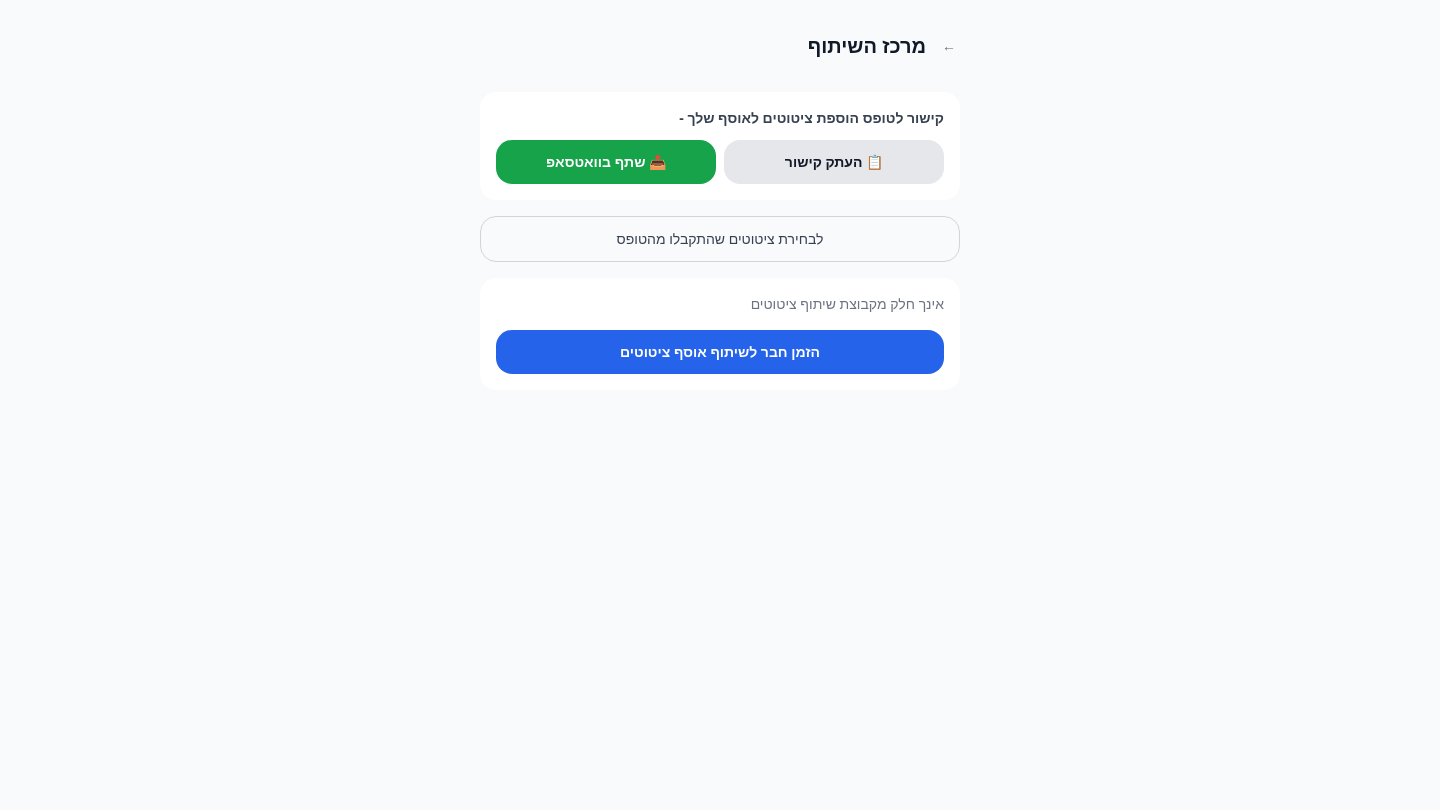
Test: SharingCenterScreen — guest inbox › shows pending submissions in the inbox
Click the button "לבחירת ציטוטים שהתקבלו מהטופס" at (720, 239), box [480,216,960,262]
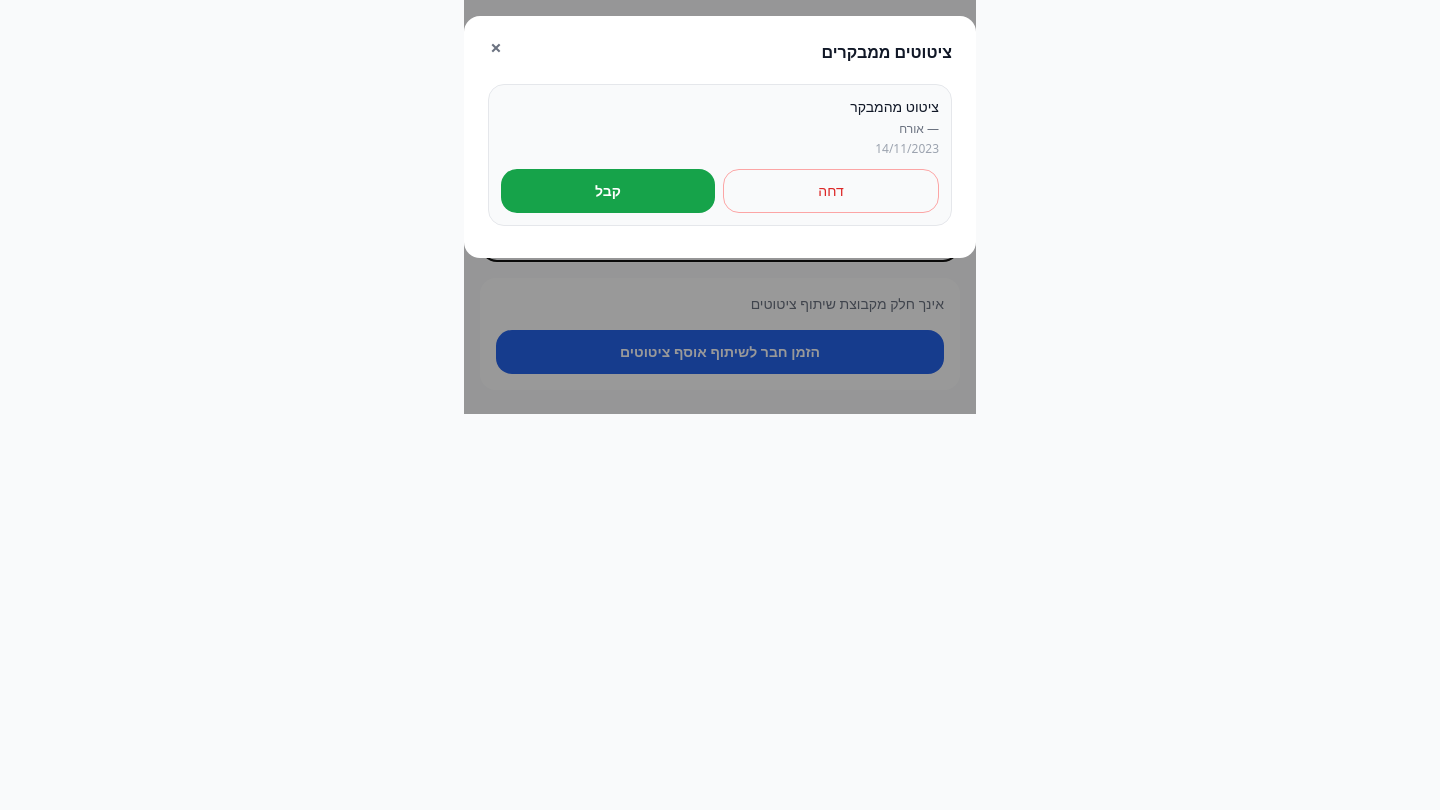
Check: the text "ציטוט מהמבקר" is shown, box [850,97,939,116]
Check: the text "— אורח" is shown, box [899,120,939,137]
